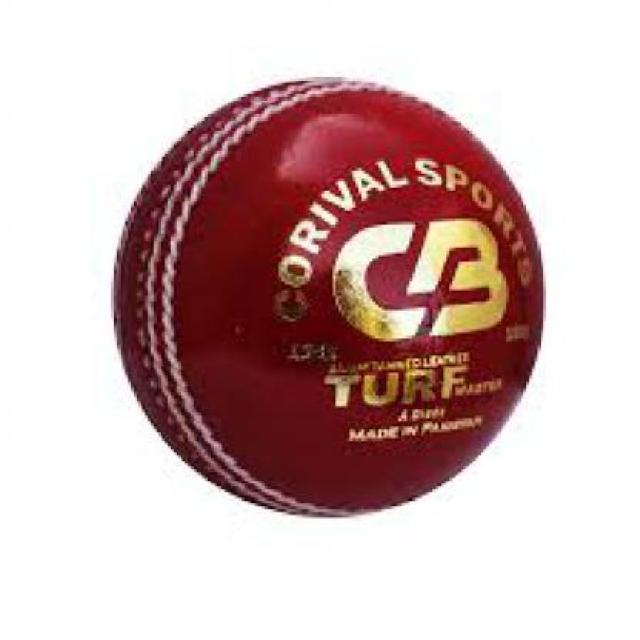ball: (80, 50, 566, 537)
